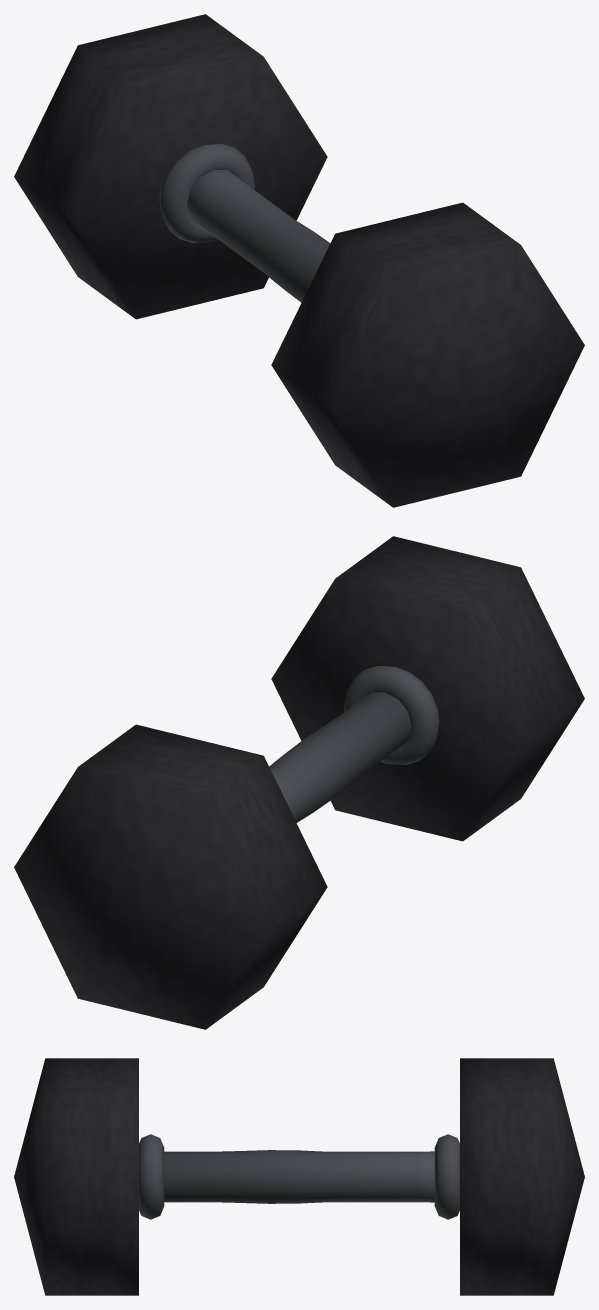
File: RubberDumbbell.glb
The picture shows the model from 3 angles, top to bottom: view 1: azimuth 30°, elevation 25°; view 2: azimuth 150°, elevation 25°; view 3: azimuth 270°, elevation 25°; orthographic projection. The views are drawn at different scales.
Visible parts, largest first — view 1: RubberDumbbell; view 2: RubberDumbbell; view 3: RubberDumbbell.
Boxes of the visible parts, left/top/right/bottom form: RubberDumbbell: left=14, top=14, right=584, bottom=507; RubberDumbbell: left=14, top=536, right=584, bottom=1029; RubberDumbbell: left=14, top=1058, right=584, bottom=1295.
Bounding box in the file's own units: 0.8 × 0.6928 × 1.92.
Materials: 1 (1 with a texture image).
